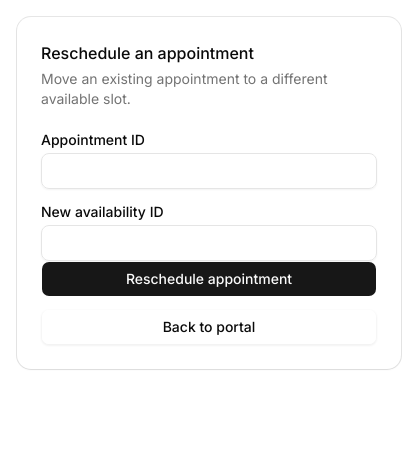
Test case: ReschedulePage › blocks submission and shows the consent message when the backend denies for missing consent
The image size is (419, 469).
Type "appt-1" into the field labelled "Appointment ID" at (209, 171), box [41,153,377,189]
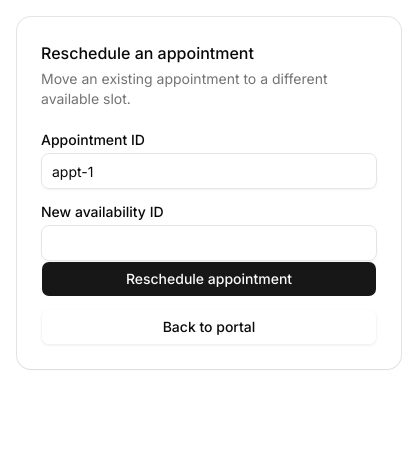
Type "slot-2" into the field labelled "New availability ID" at (209, 243), box [41,225,377,261]
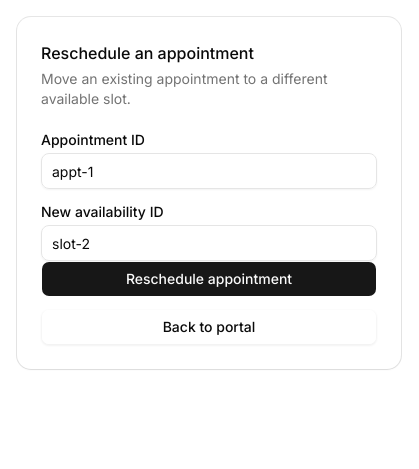
Click the button "Reschedule appointment" at (209, 279), box [41,261,377,297]
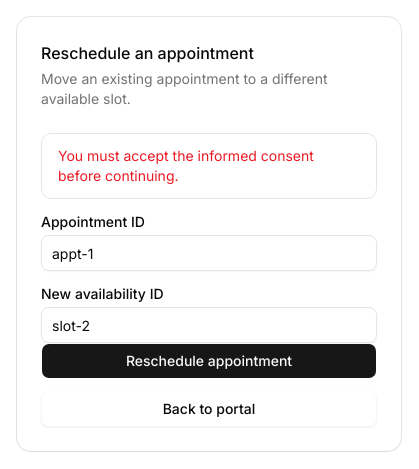
Check: the text "You must accept the informed consent before continuing." is shown, box [58,147,314,184]
